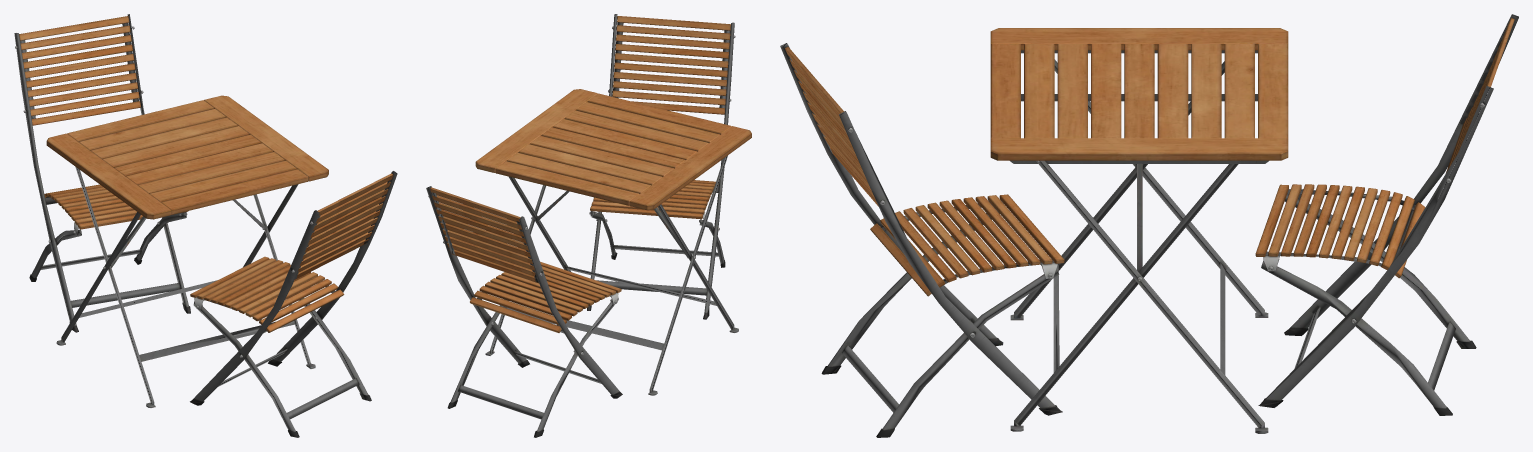
File: outdoor_table_chair_set_01.glb
The picture shows the model from 3 angles, left to right: view 1: azimuth 30°, elevation 25°; view 2: azimuth 150°, elevation 25°; view 3: azimuth 270°, elevation 25°; orthographic projection. The views are drawn at different scales.
Visible parts, largest first — view 1: outdoor_table_chair_set_01_table, outdoor_table_chair_set_01_chair_01, outdoor_table_chair_set_01_chair_02; view 2: outdoor_table_chair_set_01_table, outdoor_table_chair_set_01_chair_02, outdoor_table_chair_set_01_chair_01; view 3: outdoor_table_chair_set_01_table, outdoor_table_chair_set_01_chair_01, outdoor_table_chair_set_01_chair_02.
Part boxes in pixels (box(x1,y1,x2,y2)): outdoor_table_chair_set_01_table: box(46, 95, 328, 407); outdoor_table_chair_set_01_chair_01: box(190, 171, 397, 437); outdoor_table_chair_set_01_chair_02: box(14, 14, 190, 332); outdoor_table_chair_set_01_table: box(475, 89, 751, 395); outdoor_table_chair_set_01_chair_02: box(426, 186, 622, 437); outdoor_table_chair_set_01_chair_01: box(587, 14, 735, 319); outdoor_table_chair_set_01_table: box(990, 28, 1288, 433); outdoor_table_chair_set_01_chair_01: box(780, 43, 1064, 437); outdoor_table_chair_set_01_chair_02: box(1255, 14, 1518, 415).
Size of the model in its own units: 0.7417 by 0.8553 by 1.72.
2 materials, 2 textured.
